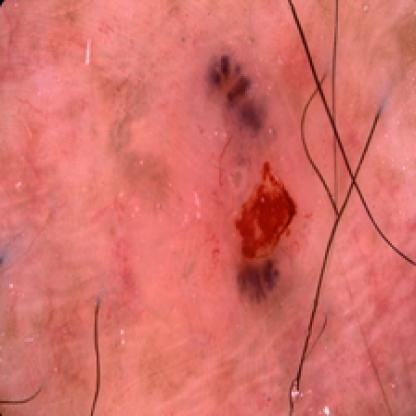malignant: (189, 35, 312, 310)
